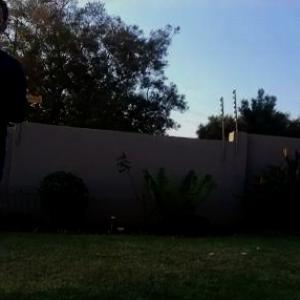follow: (0, 0, 32, 299)
